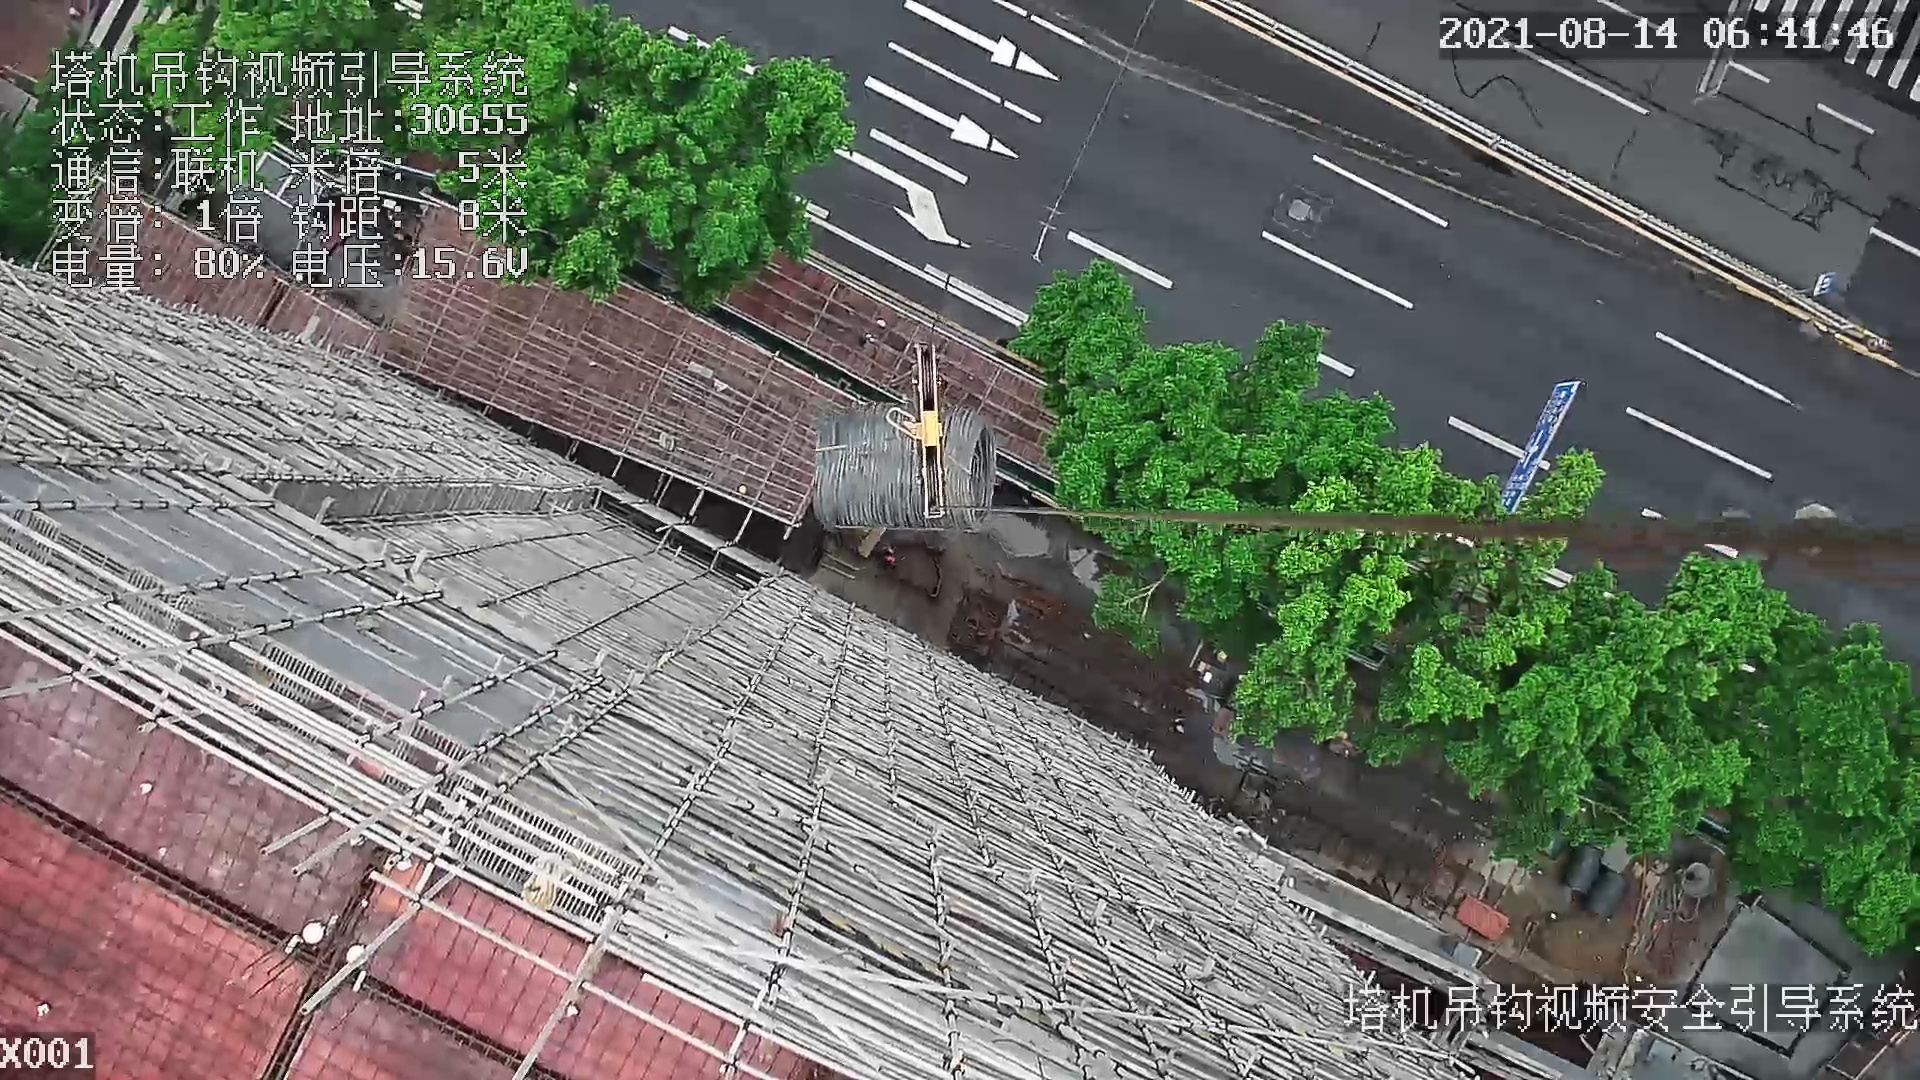hook: (882, 337, 951, 519)
person: (879, 544, 895, 570)
